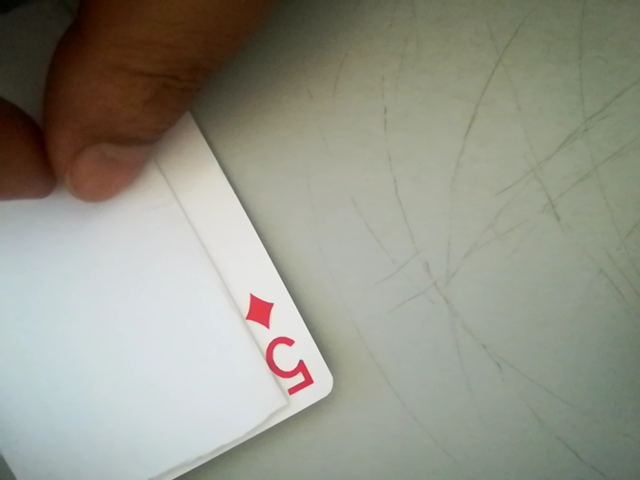fk 5: (235, 286, 332, 403)
